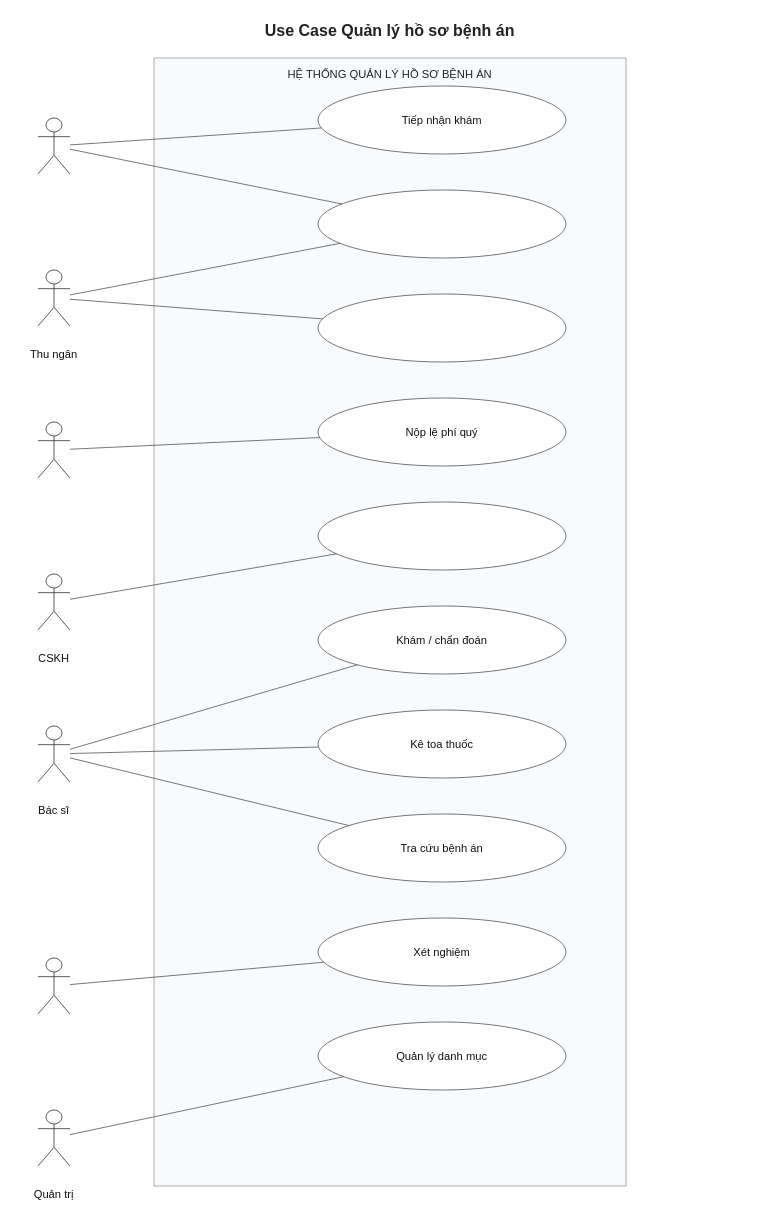
The diagram is 771 pixels wide and 1214 high, and some of its shapes have lost their labels. The shapes that lost their labels are listed below. From the top down, each one's centre as x and y in pixels, then its label:
[53,145]: Tiếp nhận
[441,223]: Đăng ký / cấp hồ sơ
[441,327]: Thanh toán
[53,449]: Bệnh nhân
[441,535]: Nhắc tái điều trị
[53,985]: KTV xét nghiệm
